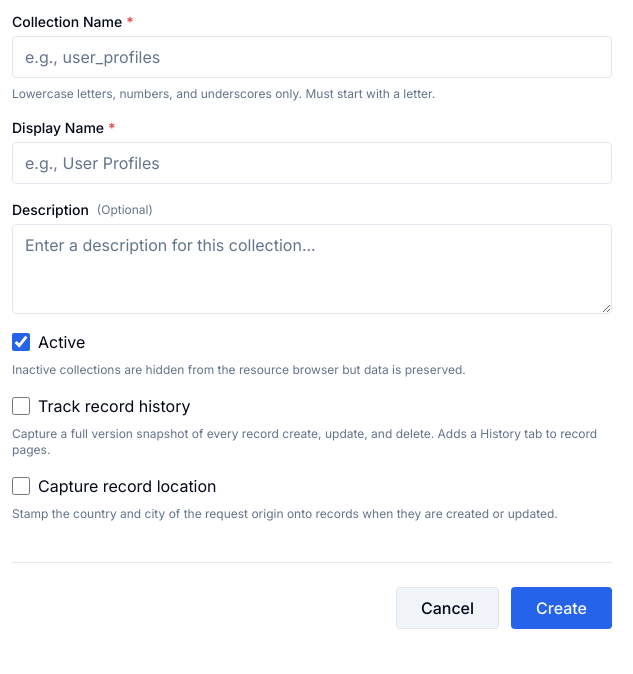
Test: CollectionForm Component › Validation - Name Field › should show error when name is empty
Click the field with test id "collection-name-input" at {"x": 312, "y": 57}, box [12,36,612,78]
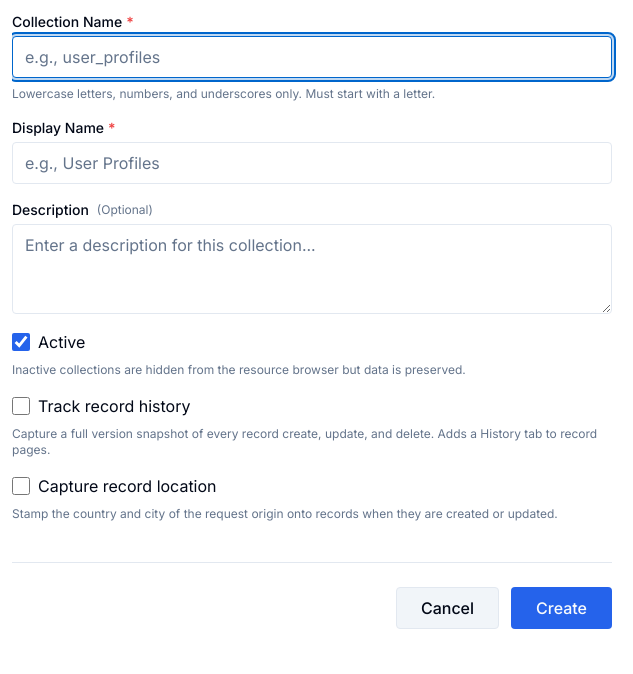
Press Tab
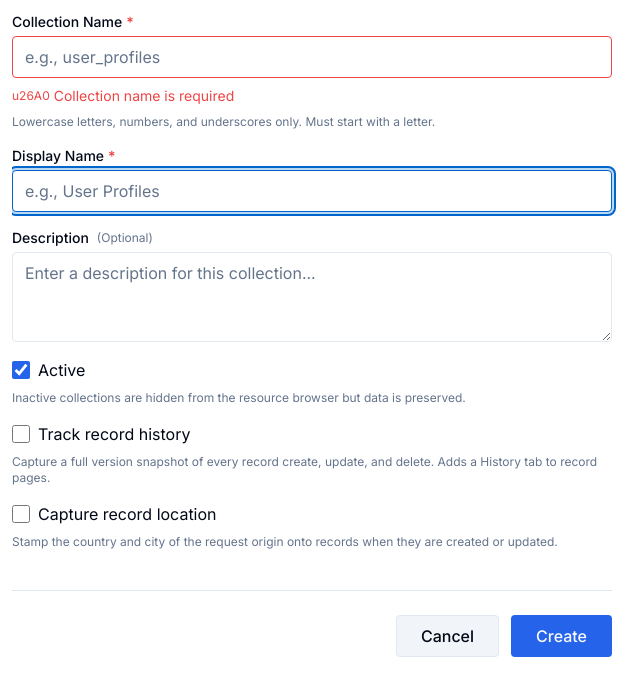
Expected: the message "Collection name is required" is shown, [54,87,234,104]
